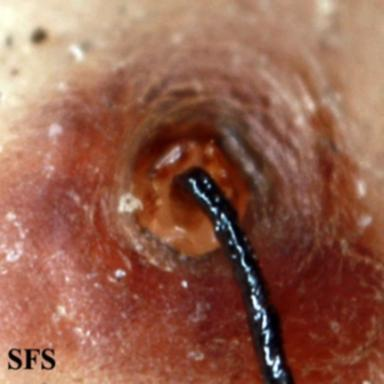Tungiasis: (0, 25, 384, 384)
